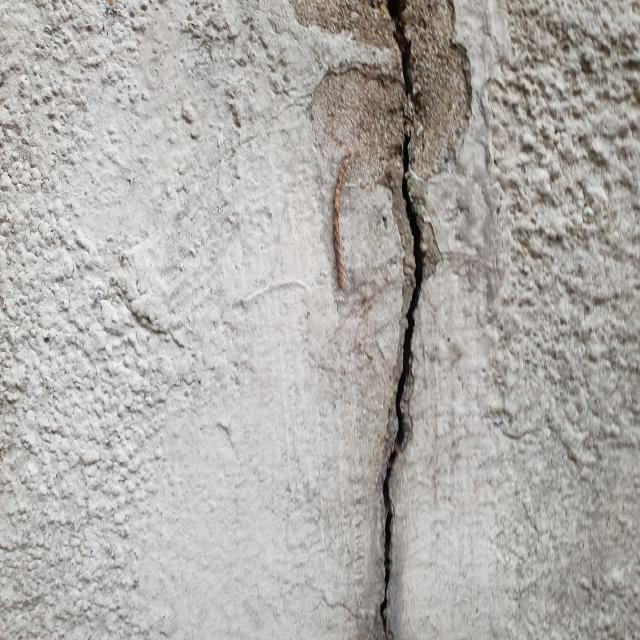SurfaceCrack: (314, 0, 498, 639)
